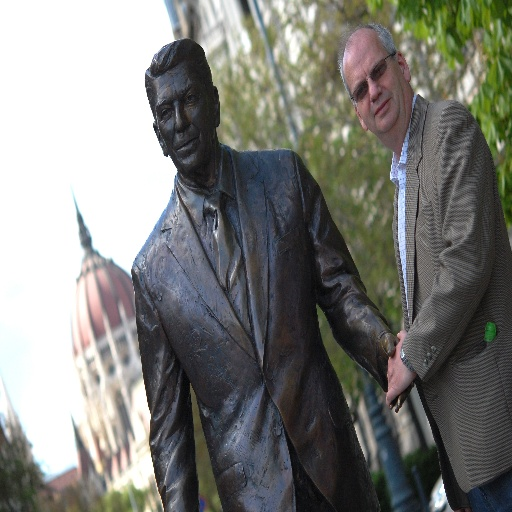hand: (376, 330, 414, 415)
